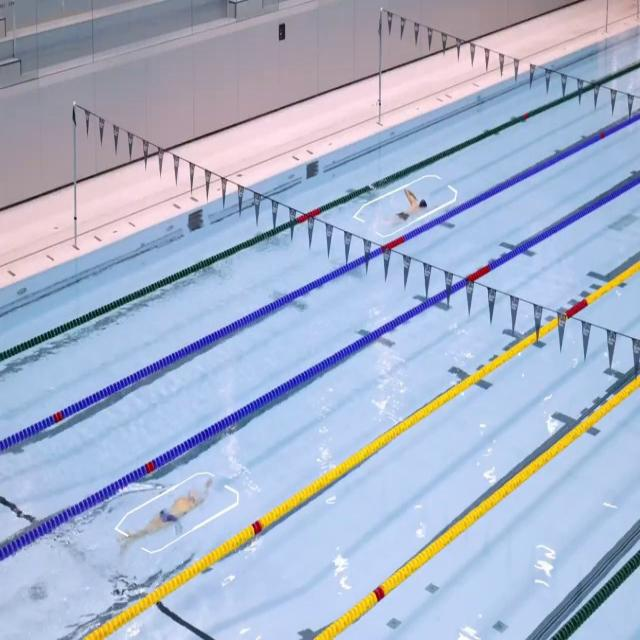Swimming: (118, 475, 214, 553), (380, 186, 440, 232)
